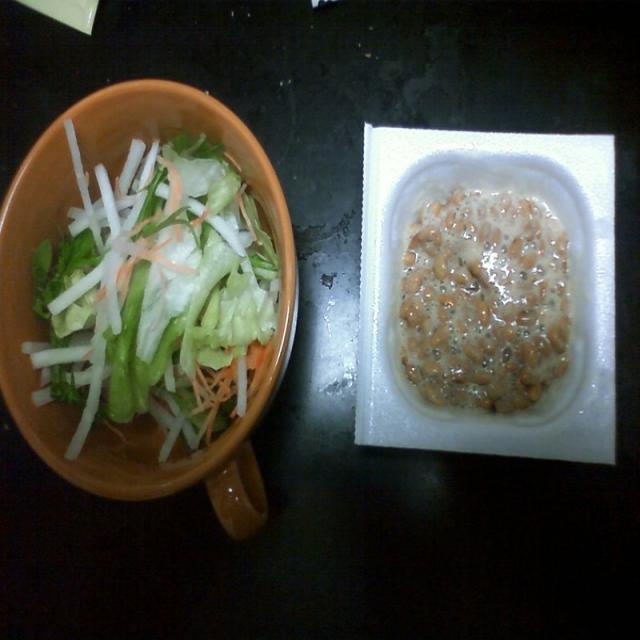Green Salad: (5, 76, 301, 502)
